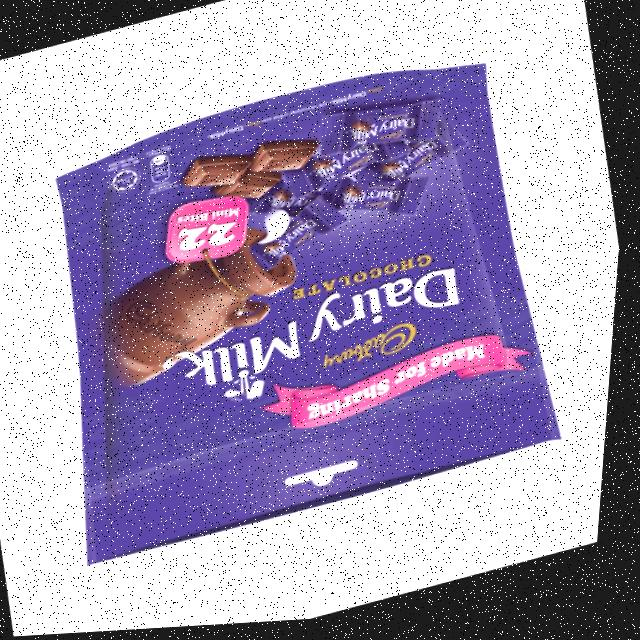cadbury: (0, 9, 629, 605)
